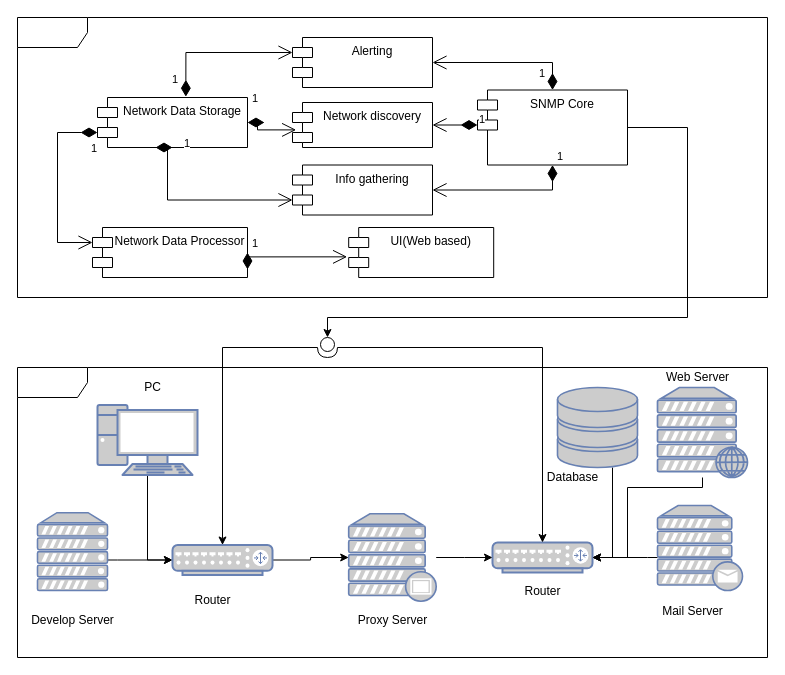
Some shapes in this 785 by 675 pixel diagram are drawn without their labels. Here are the shapes that lost their labels. From the top down, the box of each, then its label:
(16, 16, 768, 298): Network monitoring
(16, 366, 768, 658): Network topology
